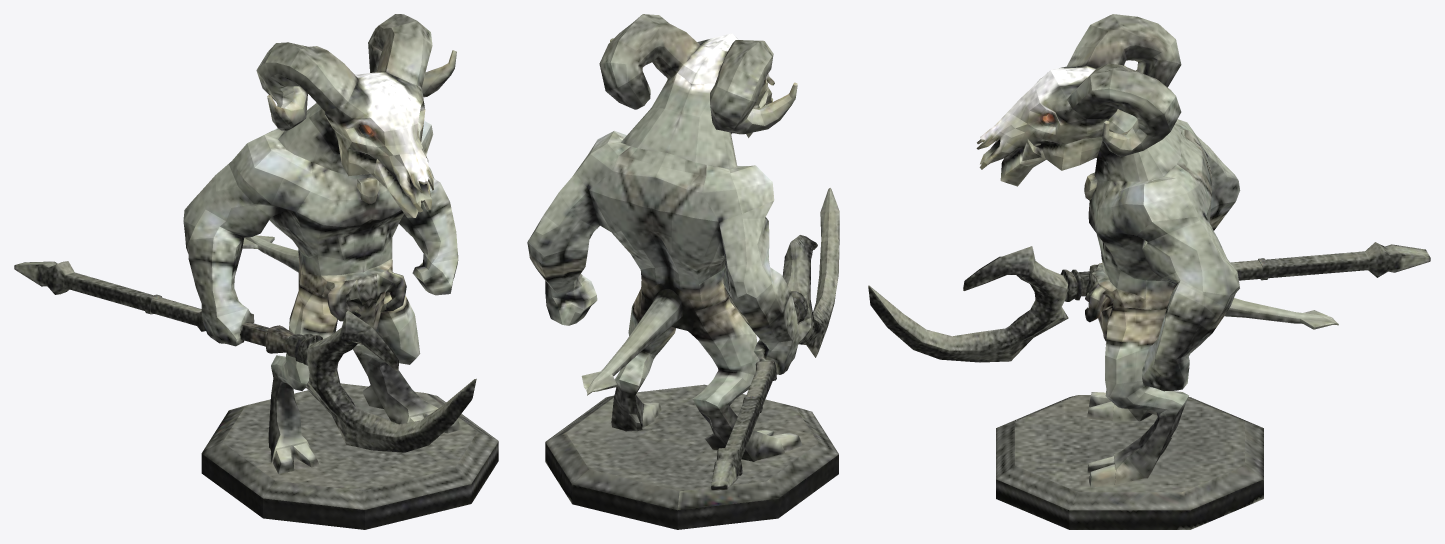
File: DevilStatue.glb
3 renders of one model, left to right at view 1: azimuth 30°, elevation 25°; view 2: azimuth 150°, elevation 25°; view 3: azimuth 270°, elevation 25°, orthographic.
Parts seen in each view (by area): view 1: demon; view 2: demon; view 3: demon.
Part boxes in pixels (x1,y1,x2,y2): demon: [14, 14, 498, 529]; demon: [527, 14, 839, 529]; demon: [868, 14, 1430, 529].
Size of the model in its own units: 5.27 by 7.07 by 8.36.
Materials: 1 (1 with a texture image).
